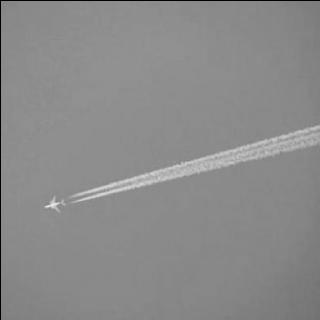Contrails: (69, 117, 320, 208)
